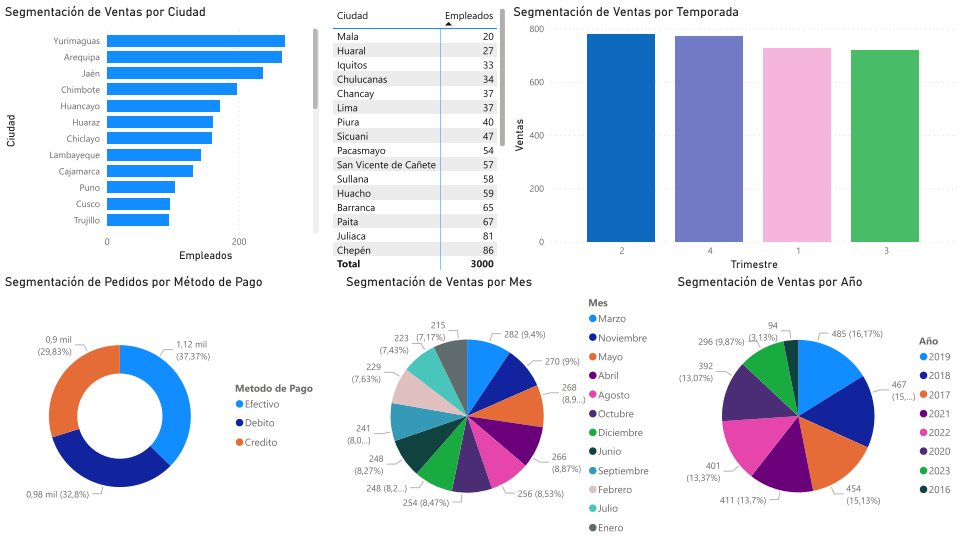

What the dashboard file says about the page in this screenshot:
{"tool":"powerbi","page":{"name":"Pedidos","canvas":[1280,720],"ordinal":3},"visuals":[{"type":"clusteredBarChart","title":"Segmentación de Ventas por Ciudad","fields":{"Category":["D_Empleados.DirCiudad"],"Y":["CountNonNull(H_Pedidos.ID_Empleado)"]},"box":[0,0,428.3,348.3],"z":0},{"type":"donutChart","title":"Segmentación de Pedidos por Método de Pago","fields":{"Category":["H_Pedidos.Tipo_Pago"],"Y":["CountNonNull(H_Pedidos.ID_Producto)"]},"box":[0,360,438.3,360],"z":1},{"type":"pivotTable","fields":{"Rows":["D_Empleados.DirCiudad"],"Values":["CountNonNull(H_Pedidos.ID_Empleado)"]},"box":[438.3,0,240,360],"z":2},{"type":"pieChart","title":"Segmentación de Ventas por Mes","fields":{"Category":["D_Tiempo.Nombre_Mes"],"Y":["CountNonNull(H_Pedidos.ID_Tiempo)"]},"box":[455,360,423.3,360],"z":3},{"type":"pieChart","title":"Segmentación de Ventas por Año","fields":{"Category":["D_Tiempo.Año"],"Y":["CountNonNull(H_Pedidos.ID_Tiempo)"]},"box":[896.7,360,383.3,360],"z":4},{"type":"columnChart","title":"Segmentación de Ventas por Temporada","fields":{"Category":["D_Tiempo.Trimestre"],"Y":["CountNonNull(H_Pedidos.ID_Tiempo)"]},"box":[678.3,0,601.7,360],"z":5}]}

Visuals, with their boxes in screenshot pixels (x1, y1, x2, y2), scaled from the page's 1280x720 canvas onto the 960x540 screenshot:
"Segmentación de Ventas por Ciudad" clusteredBarChart: box(0, 0, 321, 261)
"Segmentación de Pedidos por Método de Pago" donutChart: box(0, 270, 329, 539)
pivotTable - D_Empleados.DirCiudad x CountNonNull(H_Pedidos.ID_Empleado): box(329, 0, 509, 270)
"Segmentación de Ventas por Mes" pieChart: box(341, 270, 659, 539)
"Segmentación de Ventas por Año" pieChart: box(673, 270, 959, 539)
"Segmentación de Ventas por Temporada" columnChart: box(509, 0, 959, 270)
